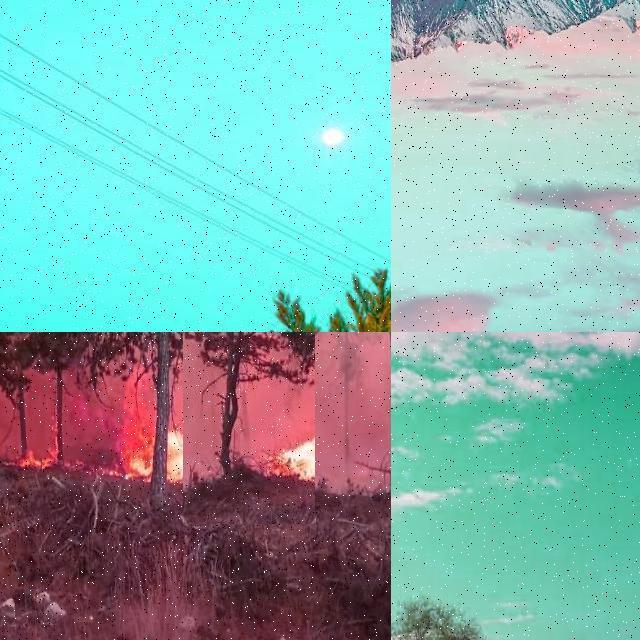tree: (17, 332, 213, 544), (183, 332, 315, 524), (323, 332, 391, 536)
